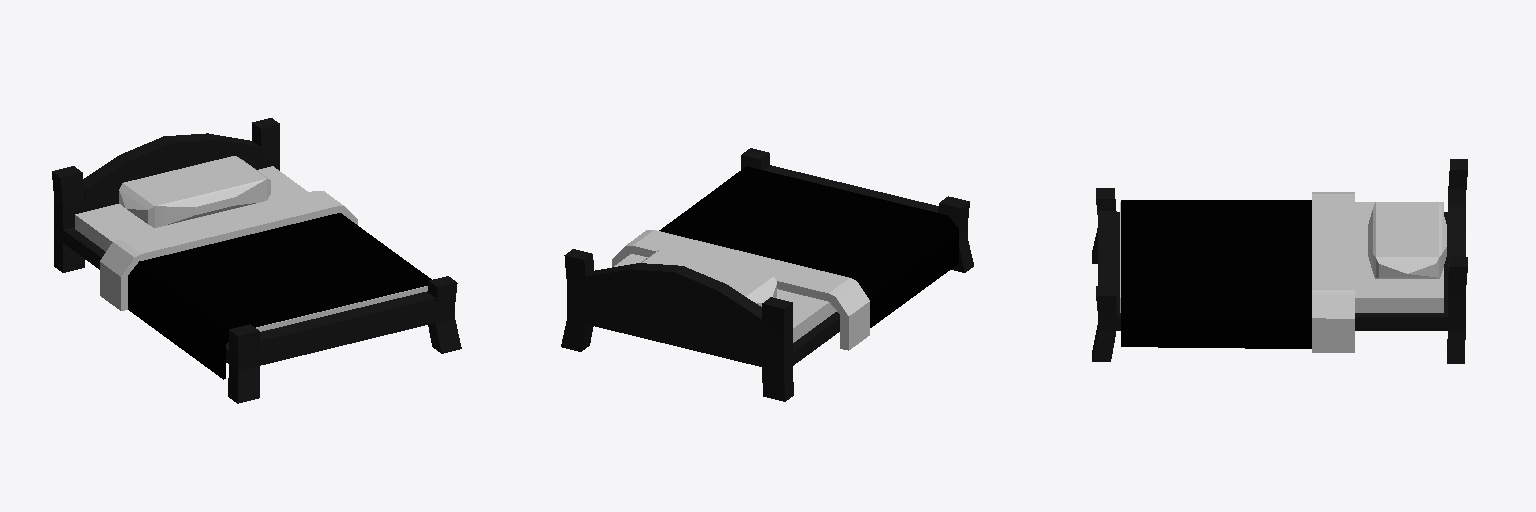
Rendered from Bed.obj.
The picture shows the model from 3 angles: view 1: azimuth 30°, elevation 25°; view 2: azimuth 150°, elevation 25°; view 3: azimuth 270°, elevation 25°; orthographic projection.
Parts seen in each view (by area): view 1: Quilt_Cube.002, Bed_Cube, Pillow_Cube.001; view 2: Quilt_Cube.002, Bed_Cube, Pillow_Cube.001; view 3: Quilt_Cube.002, Bed_Cube, Pillow_Cube.001.
Part boxes in pixels (x1,y1,x2,y2): Quilt_Cube.002: (100, 191, 431, 379); Bed_Cube: (52, 118, 461, 403); Pillow_Cube.001: (119, 156, 270, 227); Quilt_Cube.002: (612, 166, 958, 350); Bed_Cube: (561, 148, 973, 401); Pillow_Cube.001: (641, 249, 776, 306); Quilt_Cube.002: (1121, 192, 1354, 352); Bed_Cube: (1092, 159, 1467, 363); Pillow_Cube.001: (1368, 202, 1446, 278).
Size of the model in its own units: 4.36 by 1.81 by 5.98.